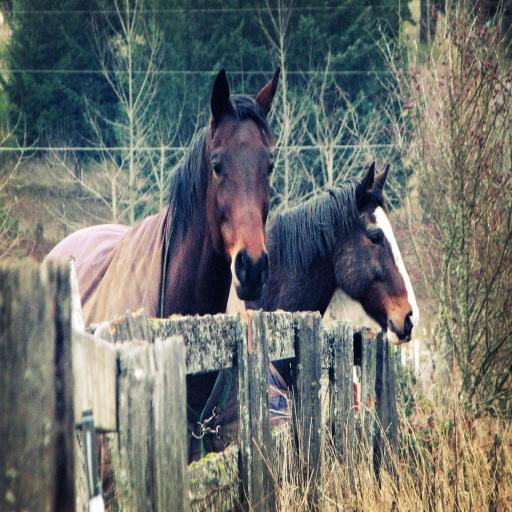horse: (41, 67, 282, 497), (226, 160, 420, 389)
